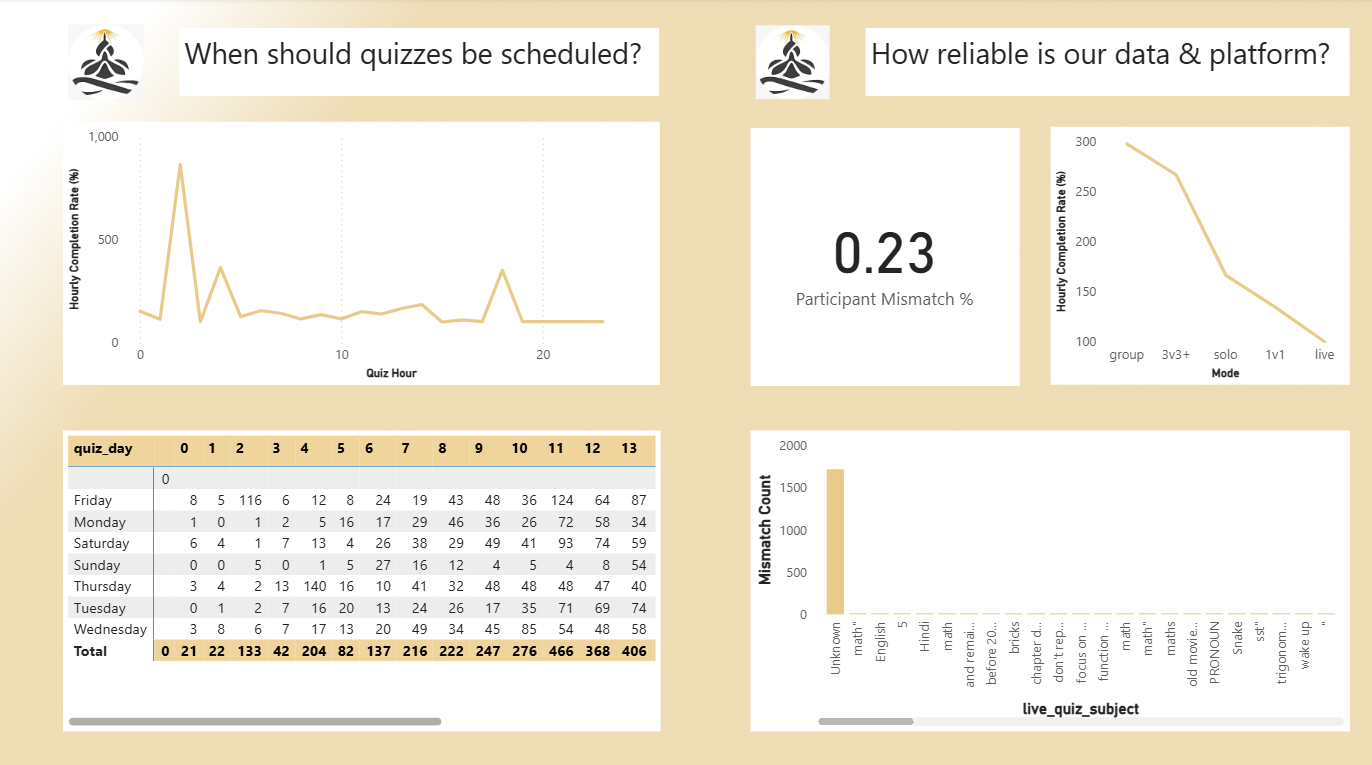

What the dashboard file says about the page in this screenshot:
{"tool":"powerbi","page":{"name":"Page 4","canvas":[1280,720],"ordinal":4},"visuals":[{"type":"card","fields":{"Values":["_Measures.Participant Mismatch %"]},"box":[700,121.4,250,240],"z":0},{"type":"pivotTable","fields":{"Rows":["vw_dashboard_quiz_analytics.quiz_day"],"Columns":["vw_dashboard_quiz_analytics.quiz_hour"],"Values":["_Measures.Participants by Time"]},"box":[60,402,556,280],"z":1000},{"type":"lineChart","fields":{"Category":["vw_dashboard_quiz_analytics.quiz_hour"],"Y":["_Measures.Hourly Completion Rate (%)"]},"box":[60,115,555,245],"z":2000},{"type":"textbox","box":[168.3,28.3,446.7,63.3],"z":3000},{"type":"textbox","box":[806.7,28.3,450,63.3],"z":4000},{"type":"clusteredColumnChart","fields":{"Y":["_Measures.Mismatch Count"],"Category":["vw_dashboard_quiz_analytics.live_quiz_subject"]},"box":[700,402.5,557.5,280],"z":5000},{"type":"lineChart","fields":{"Category":["vw_dashboard_quiz_analytics.mode"],"Y":["_Measures.Hourly Completion Rate (%)"]},"box":[978.6,120,278.6,240],"z":6000},{"type":"image","box":[60,20,80,80],"z":7000},{"type":"image","box":[700,20,78.3,80],"z":8000}]}

Visuals, with their boxes in screenshot pixels (x1, y1, x2, y2), scaled from the page's 1280x720 canvas onto the 1372x765 screenshot:
card - _Measures.Participant Mismatch %: detection(750, 129, 1018, 384)
pivotTable - vw_dashboard_quiz_analytics.quiz_day x vw_dashboard_quiz_analytics.quiz_hour: detection(64, 427, 660, 725)
lineChart - vw_dashboard_quiz_analytics.quiz_hour x _Measures.Hourly Completion Rate (%): detection(64, 122, 659, 382)
textbox: detection(180, 30, 659, 97)
textbox: detection(865, 30, 1347, 97)
clusteredColumnChart - _Measures.Mismatch Count x vw_dashboard_quiz_analytics.live_quiz_subject: detection(750, 428, 1348, 725)
lineChart - vw_dashboard_quiz_analytics.mode x _Measures.Hourly Completion Rate (%): detection(1049, 128, 1348, 382)
image: detection(64, 21, 150, 106)
image: detection(750, 21, 834, 106)
